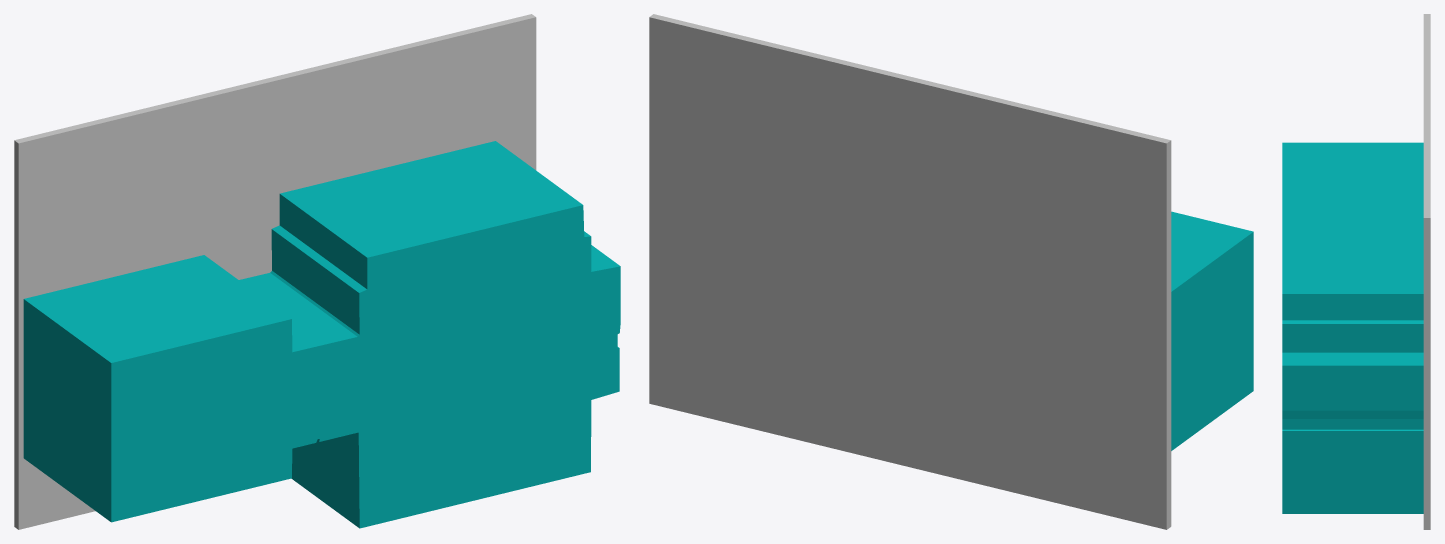
3 views of the same model, side by side, from view 1: azimuth 30°, elevation 25°; view 2: azimuth 150°, elevation 25°; view 3: azimuth 270°, elevation 25° (orthographic). The views are drawn at different scales.
Parts seen in each view (by area): view 1: world; view 2: world; view 3: world.
Part boxes in pixels (x1,y1,x2,y2): world: [14, 14, 620, 529]; world: [649, 14, 1253, 529]; world: [1282, 14, 1430, 529].
Bounding box in the file's own units: 10.23 × 7.3 × 3.15.
